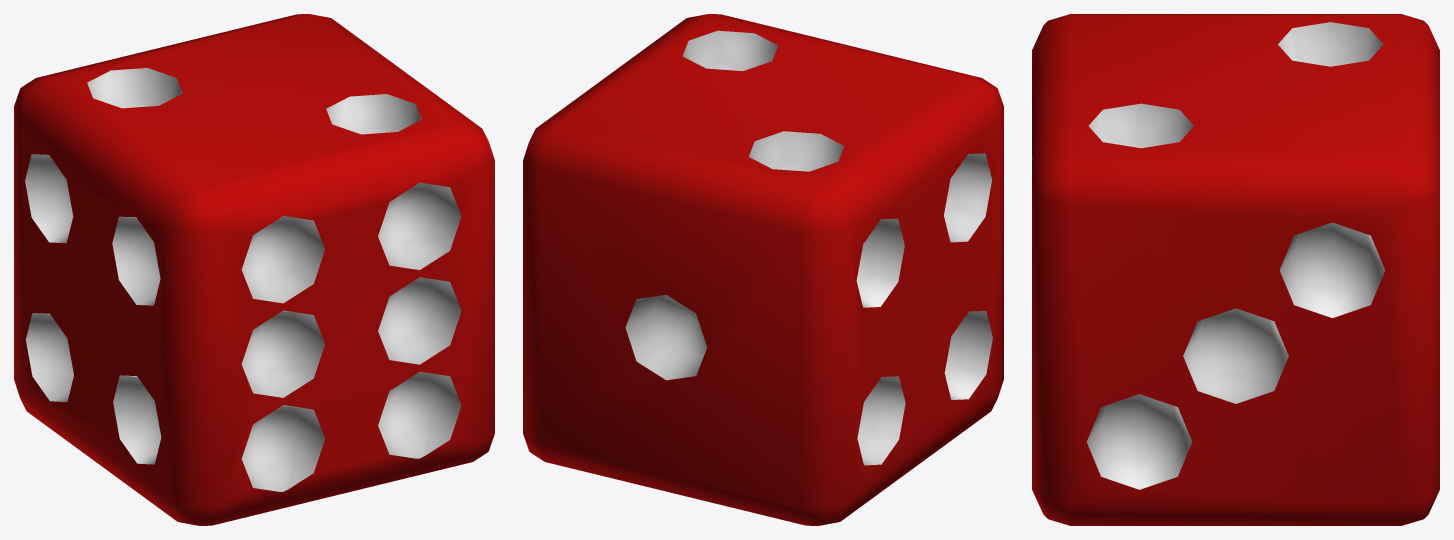
File: Dice_V3_0.fbx
The picture shows the model from 3 angles, left to right: view 1: azimuth 30°, elevation 25°; view 2: azimuth 150°, elevation 25°; view 3: azimuth 270°, elevation 25°; orthographic projection. The views are drawn at different scales.
Parts seen in each view (by area): view 1: Dice_V3_0; view 2: Dice_V3_0; view 3: Dice_V3_0.
Part boxes in pixels (left/top/right/bottom): Dice_V3_0: left=14, top=14, right=494, bottom=525; Dice_V3_0: left=523, top=14, right=1003, bottom=525; Dice_V3_0: left=1032, top=14, right=1439, bottom=525.
Bounding box in the file's own units: 0.3276 × 0.3276 × 0.3276.
